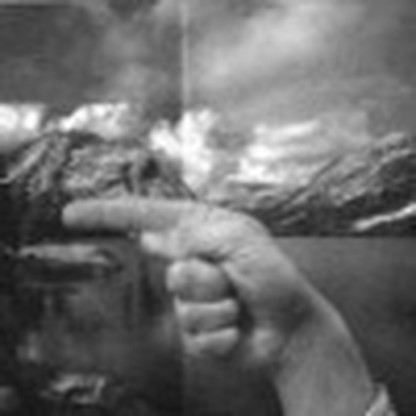g: (58, 185, 297, 367)
